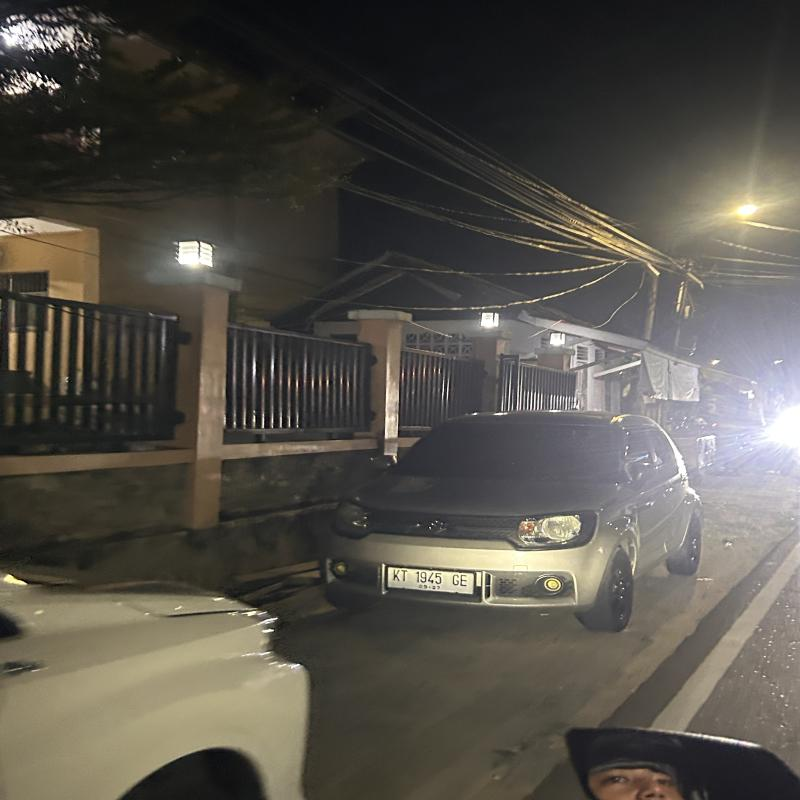license plate on a car: (378, 552, 484, 603)
